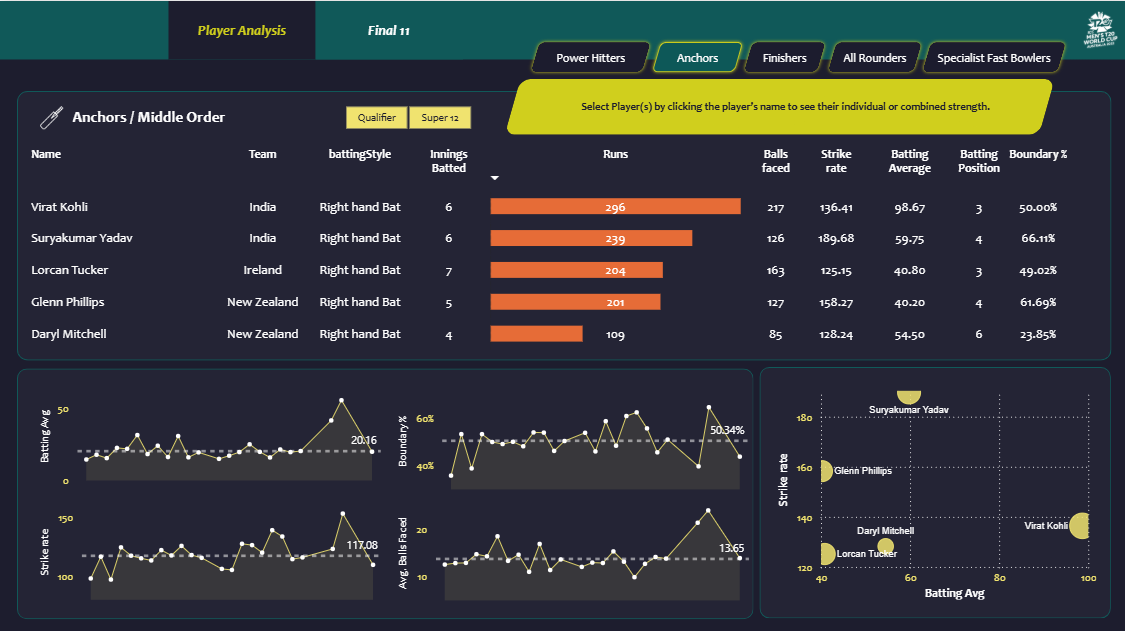

This screenshot's page, from the dashboard's own definition file:
{"tool":"powerbi","page":{"name":"New Final12","canvas":[1280,720],"ordinal":5},"visuals":[{"type":"shape","box":[0,66,1280,654],"z":0},{"type":"shape","box":[7,122.9,196,585.1],"z":1000,"group":"g1"},{"type":"image","box":[1220,3,48,59],"z":1000},{"type":"shape","box":[210.7,75.5,1063.4,632.2],"z":2000},{"type":"actionButton","title":"Button Player Ana selected","box":[357,0,166,66],"z":3000},{"type":"actionButton","title":"Button Player Ana selected","box":[191.4,0,165.7,65.7],"z":4000},{"type":"group","id":"g1","title":"Group 1","box":[7,122.9,196,585.1],"z":6000},{"type":"shape","box":[19.6,104.9,171.5,30.4],"z":7000},{"type":"pivotTable","fields":{"Values":["Min(dim_player.team)","Min(dim_player.Batting Style)","Min(dim_player.Playing Role)","Min(dim_player.Bowling Style)","Key_Measures.Bat Avg","Key_Measures.Strike rate","Key_Measures.Economy","Key_Measures.Bowling Strike Rate","Key_Measures.Bowling Average","CountNonNull(dim_player.Custom Batting Order)"],"Rows":["dim_player.name","dim_player.image"]},"box":[219.9,85.4,1048,501.1],"z":8000},{"type":"shape","box":[219.9,618.4,999.7,63],"z":9000},{"type":"card","fields":{"Values":["Key_Measures.Strike rate"]},"box":[548.4,620.2,93,60],"z":10000},{"type":"slicer","fields":{"Values":["dim_player.name"]},"box":[19.7,149.3,170.5,558.7],"z":11000,"group":"g1"},{"type":"card","fields":{"Values":["Key_Measures.Avergate Balls Faced"]},"box":[657.3,621.9,109.5,56.9],"z":11000},{"type":"card","fields":{"Values":["Key_Measures.Bat Avg"]},"box":[449.4,620.2,92,60],"z":12000},{"type":"card","fields":{"Values":["Key_Measures.Bowling Strike Rate"]},"box":[907.4,618.4,92.3,60.4],"z":13000},{"type":"card","fields":{"Values":["Key_Measures.Economy"]},"box":[1012.6,618.4,100.9,60.4],"z":14000},{"type":"card","fields":{"Values":["Key_Measures.Dot ball %"]},"box":[1113.5,617.6,100.1,60.4],"z":15000},{"type":"card","fields":{"Values":["Key_Measures.Bowling Average"]},"box":[794.4,617.6,91.4,60.4],"z":16000},{"type":"shape","box":[251.8,632.1,172.5,34.3],"z":17000}]}

Visuals, with their boxes in screenshot pixels (x1, y1, x2, y2), scaled from the page's 1280x720 canvas onto the 1125x631 screenshot:
shape: (0,58,1124,630)
shape: (6,108,178,620)
image: (1072,3,1114,54)
shape: (185,66,1120,620)
"Button Player Ana selected" actionButton: (314,0,460,58)
"Button Player Ana selected" actionButton: (168,0,314,58)
"Group 1" group: (6,108,178,620)
shape: (17,92,168,119)
pivotTable - Min(dim_player.team) x Min(dim_player.Batting Style): (193,75,1114,514)
shape: (193,542,1072,597)
card - Key_Measures.Strike rate: (482,544,564,596)
slicer - dim_player.name: (17,131,167,620)
card - Key_Measures.Avergate Balls Faced: (578,545,674,595)
card - Key_Measures.Bat Avg: (395,544,476,596)
card - Key_Measures.Bowling Strike Rate: (798,542,879,595)
card - Key_Measures.Economy: (890,542,979,595)
card - Key_Measures.Dot ball %: (979,541,1067,594)
card - Key_Measures.Bowling Average: (698,541,779,594)
shape: (221,554,373,584)
